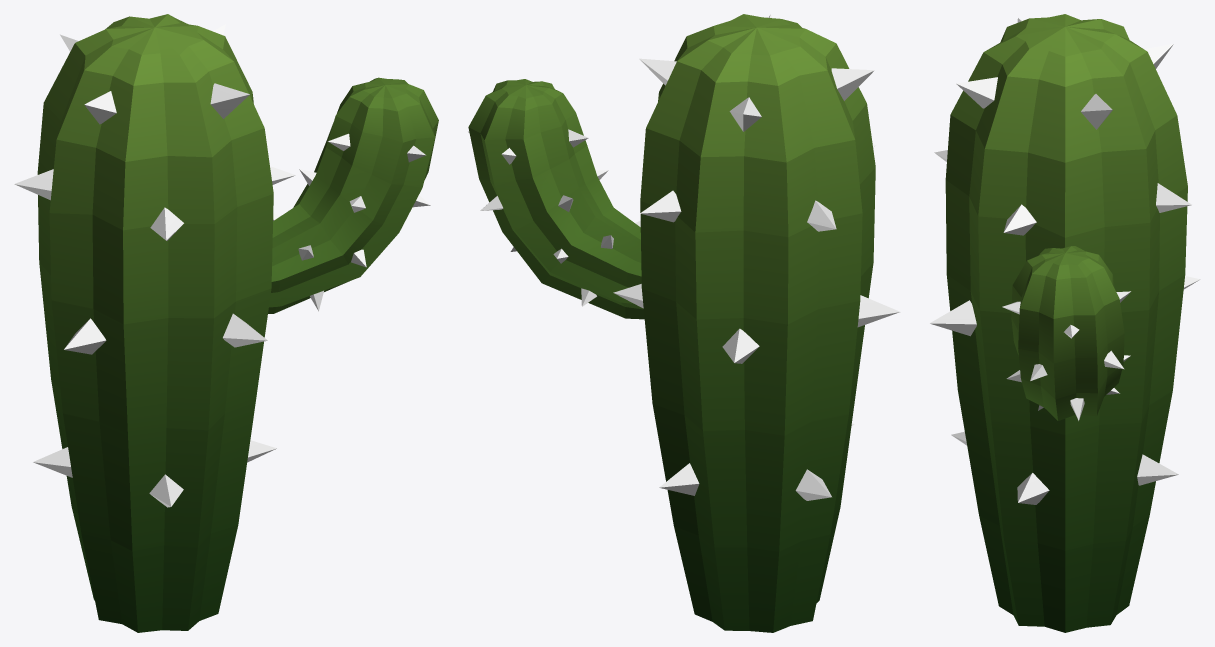
The model's file is Cactus01.glb.
3 views of the same model, side by side, from view 1: azimuth 30°, elevation 25°; view 2: azimuth 150°, elevation 25°; view 3: azimuth 270°, elevation 25° (orthographic).
Visible parts, largest first — view 1: cactus_9; view 2: cactus_9; view 3: cactus_9.
Part boxes in pixels (x1,y1,x2,y2): cactus_9: (14, 14, 438, 632); cactus_9: (468, 14, 899, 632); cactus_9: (929, 14, 1200, 632).
Bounding box in the file's own units: 247 × 339 × 144.
1 material, 1 textured.
